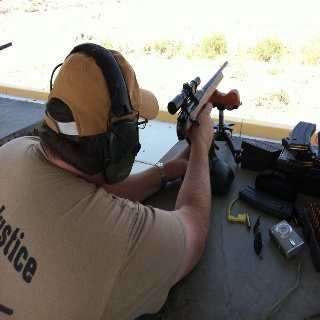rifle: (166, 60, 230, 149)
